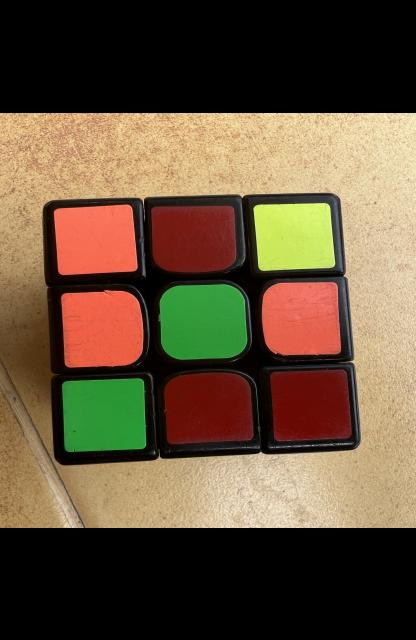Green: (159, 283, 248, 359), (62, 377, 147, 451)
Orange: (61, 289, 143, 367), (54, 203, 137, 274), (262, 281, 340, 355)
Red: (164, 372, 253, 444), (270, 369, 352, 440), (152, 205, 237, 271)
Yellow: (253, 202, 336, 270)
